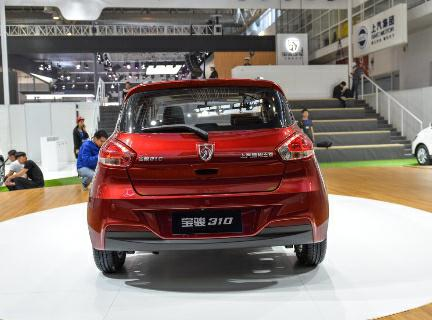宝骏-310W: (82, 74, 334, 282)
